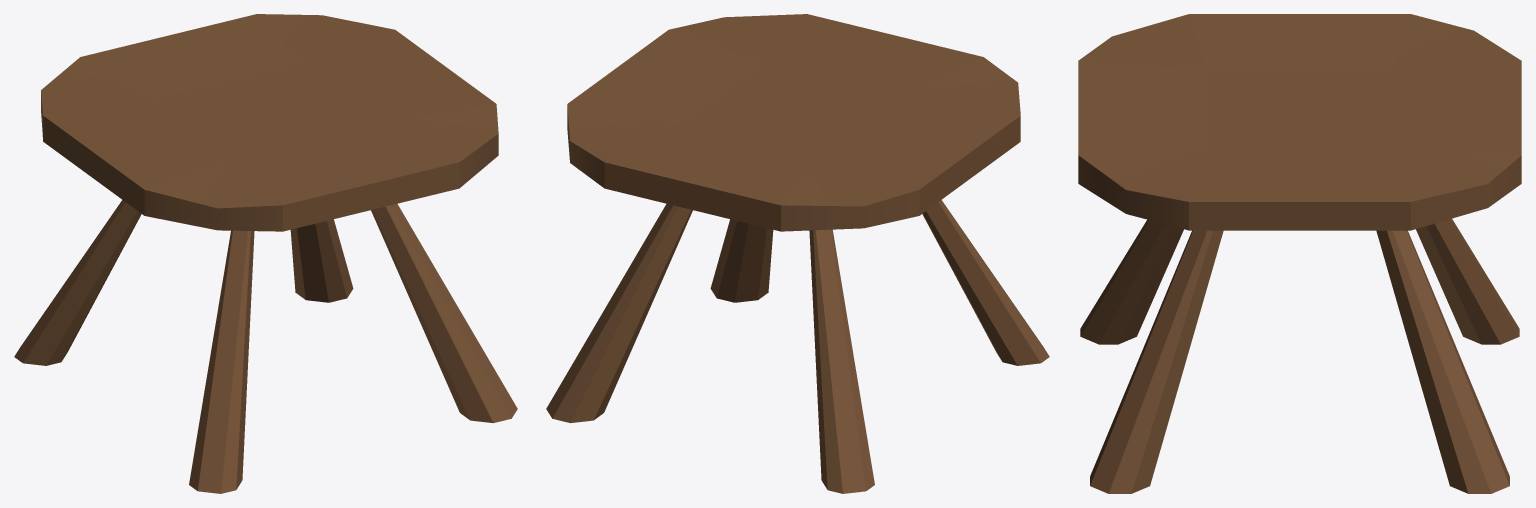
Rendered from Stool.fbx.
3 views of the same model, side by side, from view 1: azimuth 30°, elevation 25°; view 2: azimuth 150°, elevation 25°; view 3: azimuth 270°, elevation 25° (orthographic). The views are drawn at different scales.
Parts seen in each view (by area): view 1: Stool; view 2: Stool; view 3: Stool.
Part boxes in pixels (x1,y1,x2,y2): Stool: (14, 14, 517, 493); Stool: (546, 14, 1049, 493); Stool: (1078, 14, 1521, 493).
Bounding box in the file's own units: 0.4764 × 0.3549 × 0.4751.
Materials: 1 (1 with a texture image).
